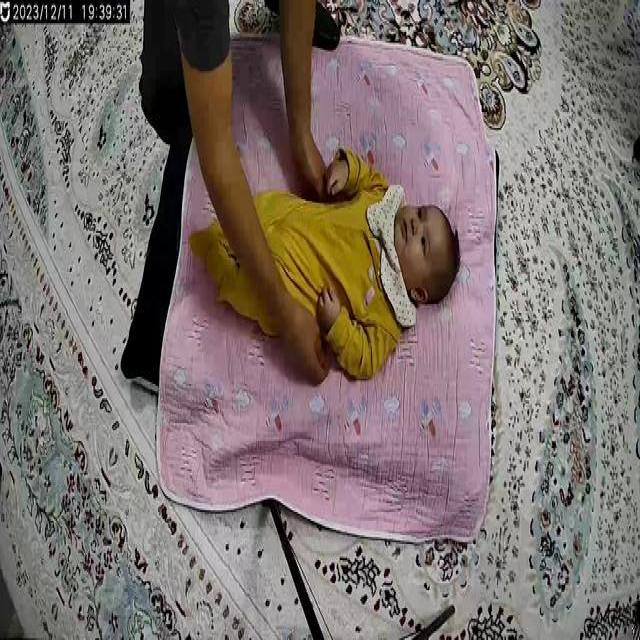baby: (188, 145, 462, 383)
